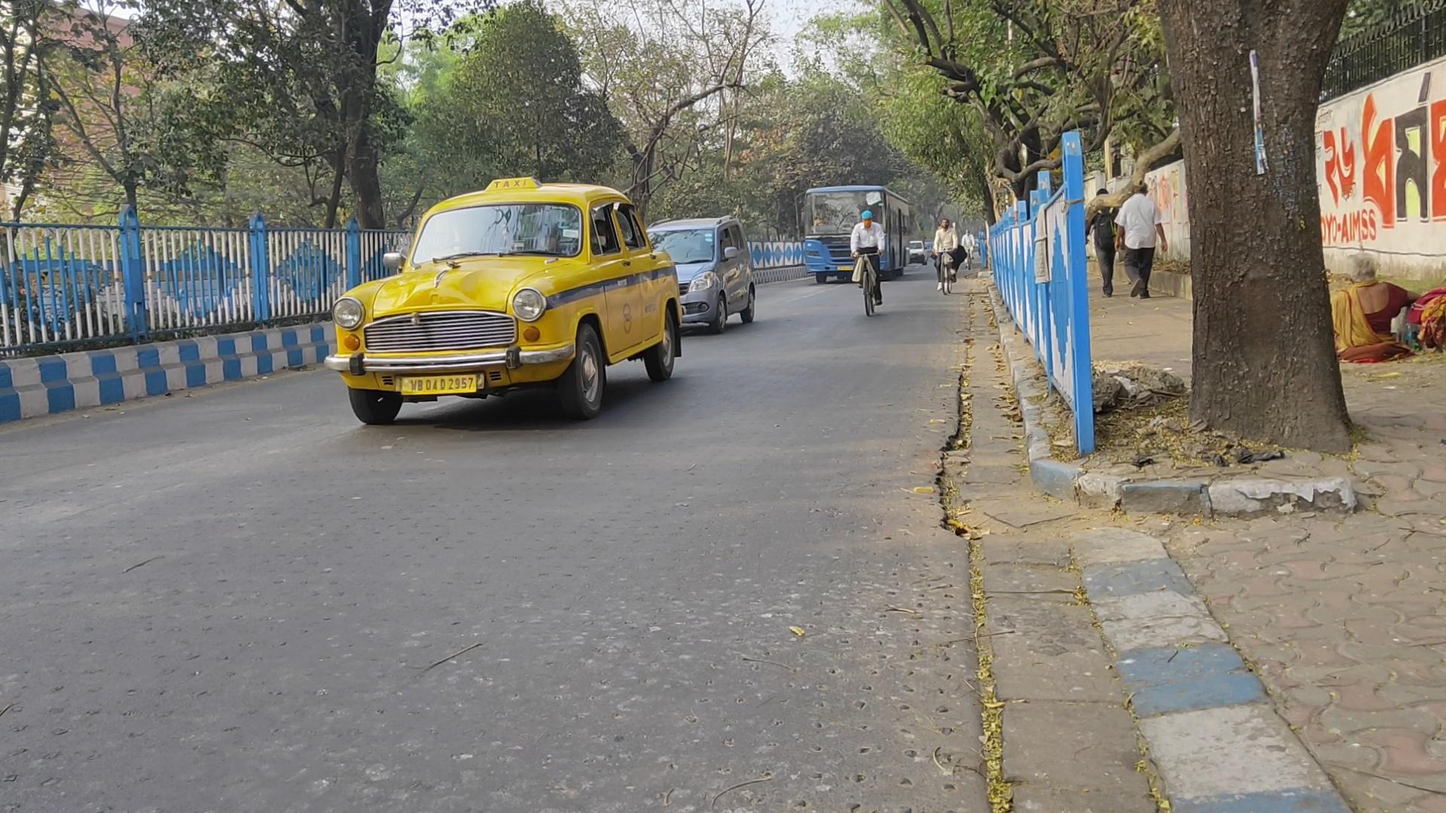Bus: (804, 186, 911, 288)
bike: (850, 210, 891, 318), (932, 218, 966, 297), (962, 229, 975, 273)
car: (329, 175, 684, 427), (645, 212, 759, 337), (909, 239, 929, 265)
